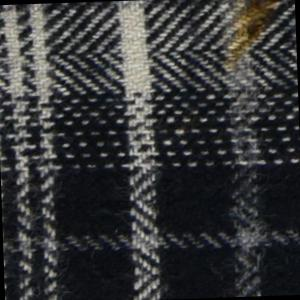Oil Stain: (219, 1, 293, 73)
